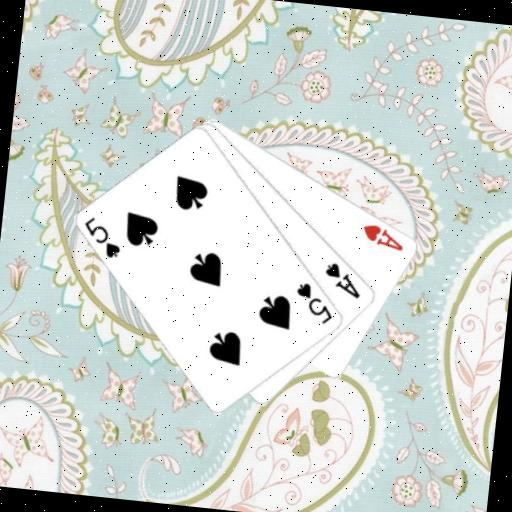5S: (291, 279, 338, 327), (79, 213, 126, 261)
AH: (357, 220, 407, 253)
AS: (320, 258, 366, 301)
